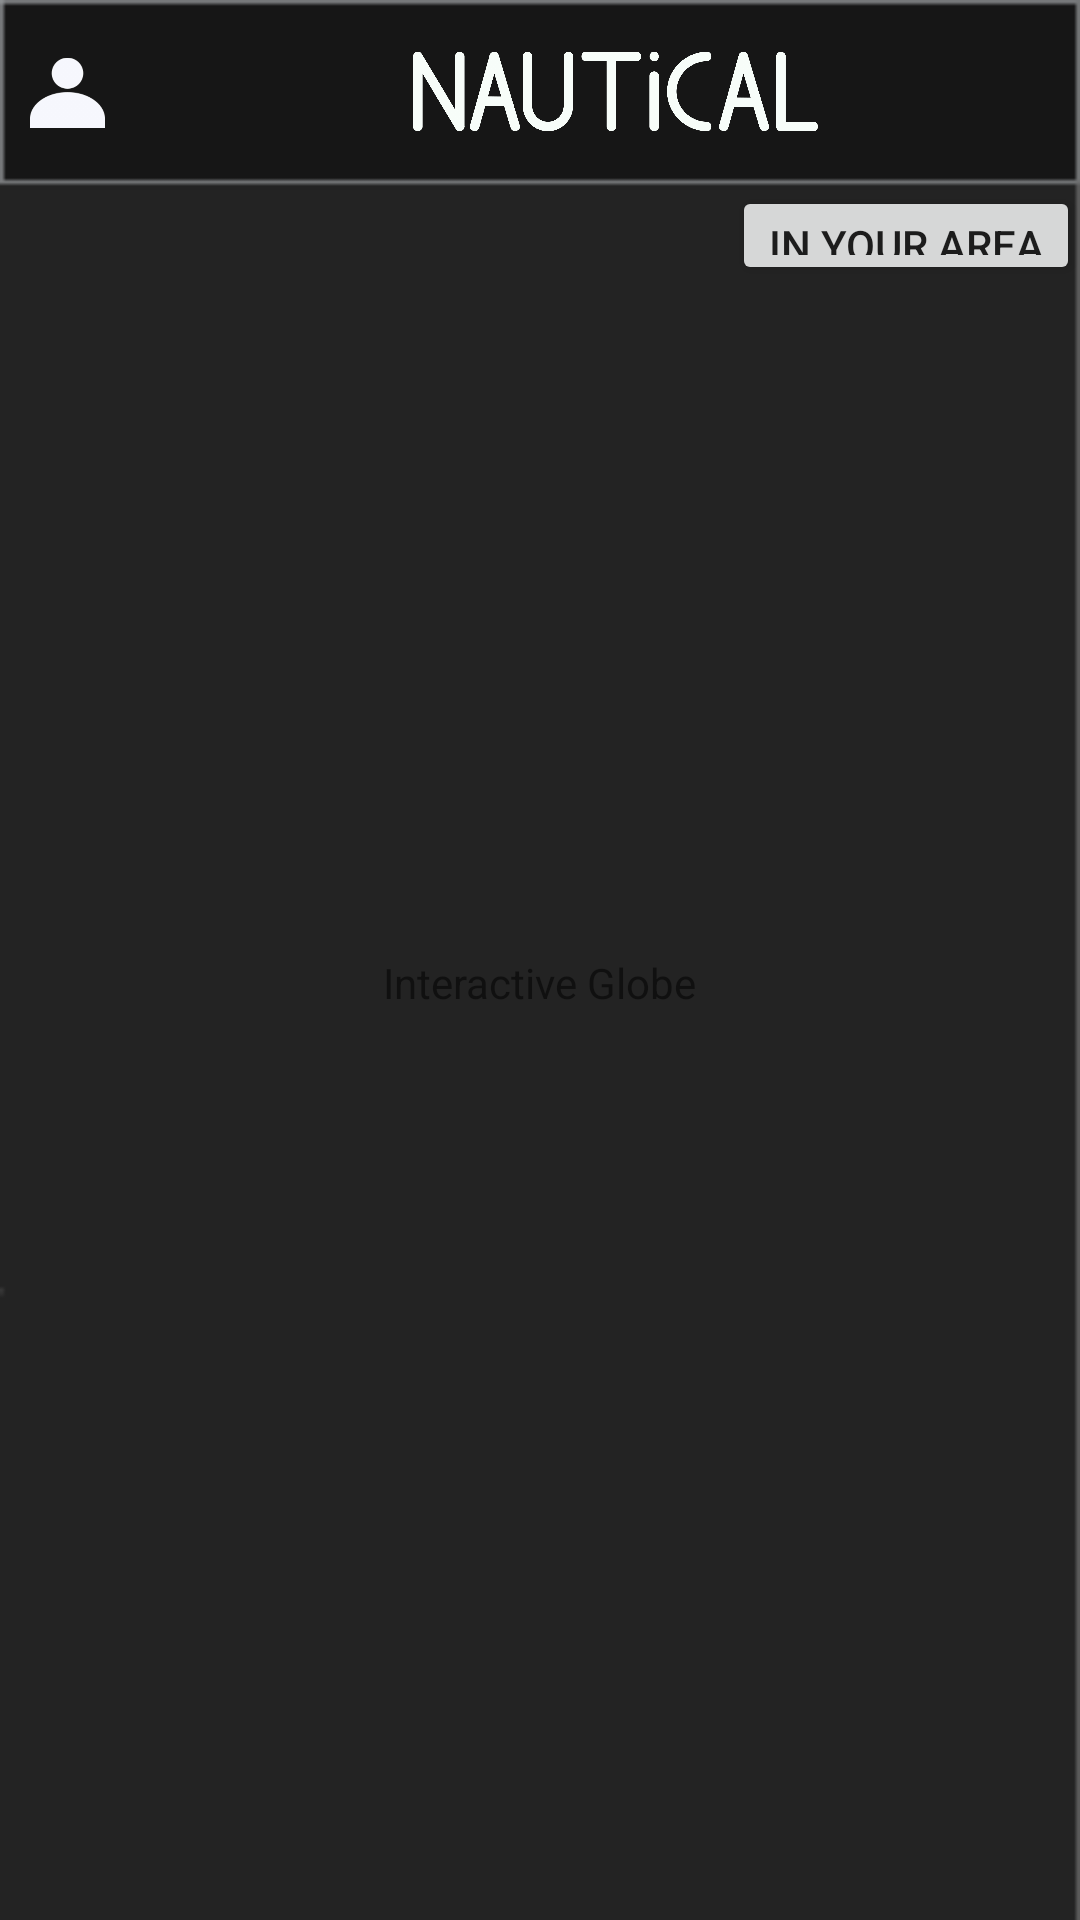

Screen size 1080px x 1920px. Icon name, then its center in pixels as (x=x, y=y):
profile: (x=67, y=93)
